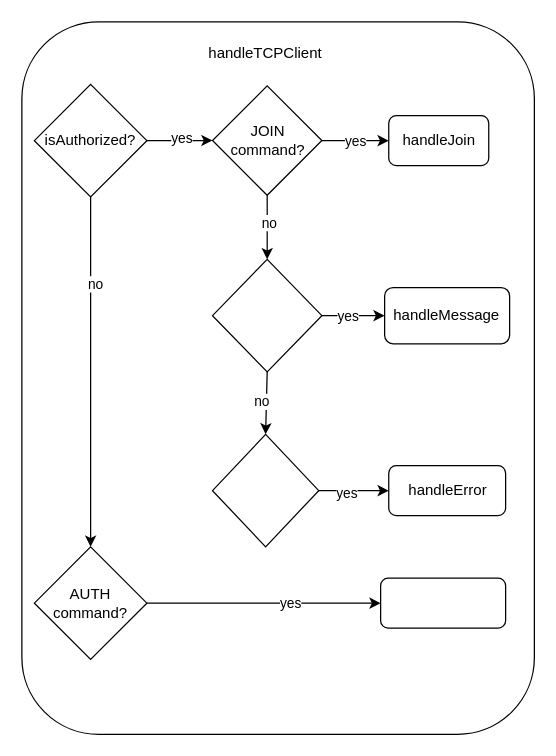
This 556x756 diagram has some shape labels left out. Each missing label, with the centre of its shape:
"ERR command?" belongs at pixel 265 490.
"handleAuth" belongs at pixel 442 602.
"MSG command?" belongs at pixel 266 315.
